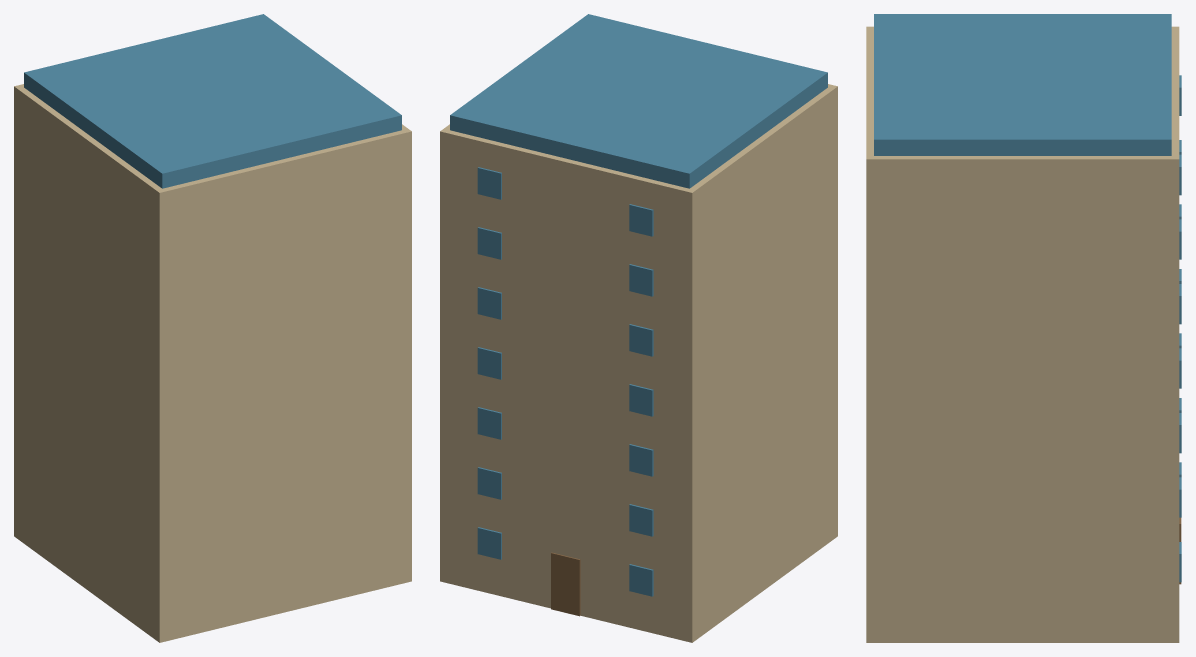
File: office_tower.glb
The picture shows the model from 3 angles, left to right: view 1: azimuth 30°, elevation 25°; view 2: azimuth 150°, elevation 25°; view 3: azimuth 270°, elevation 25°; orthographic projection. The views are drawn at different scales.
Bounding box in the file's own units: 7.04 × 12.4 × 7.09.
